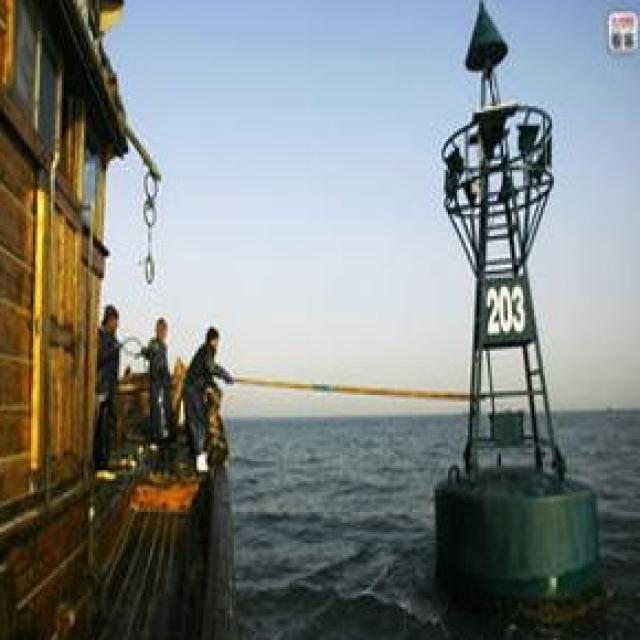buoy: (415, 0, 602, 614)
